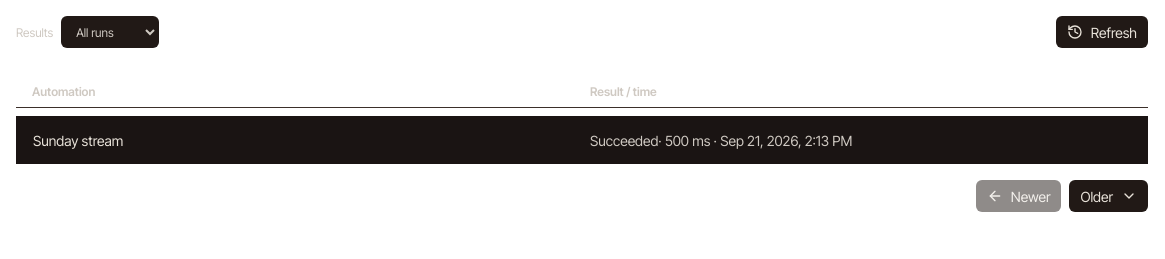
Test case: History view › retains the current page on query failure and provides an explicit refresh
Click the button "Older" at x=1109, y=196, box [1069, 180, 1148, 212]
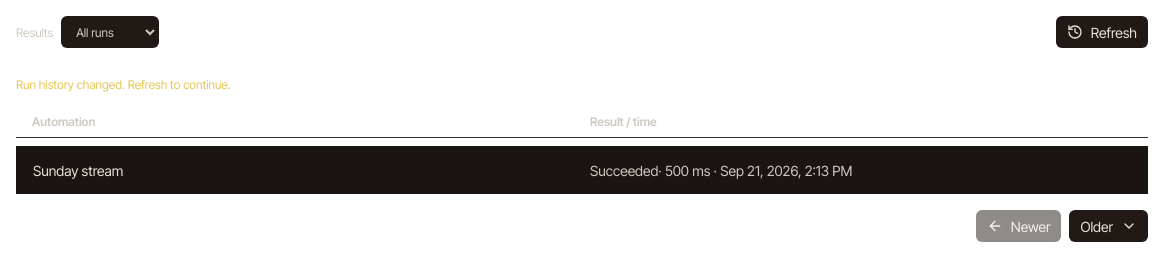
expect the button with aria-label "Inspect Sunday stream run" is shown: met, box [16, 146, 1148, 194]
expect the message shows "Refresh": met, box [16, 77, 231, 92]
Click the button "Refresh" at x=1102, y=32, box [1056, 16, 1148, 48]
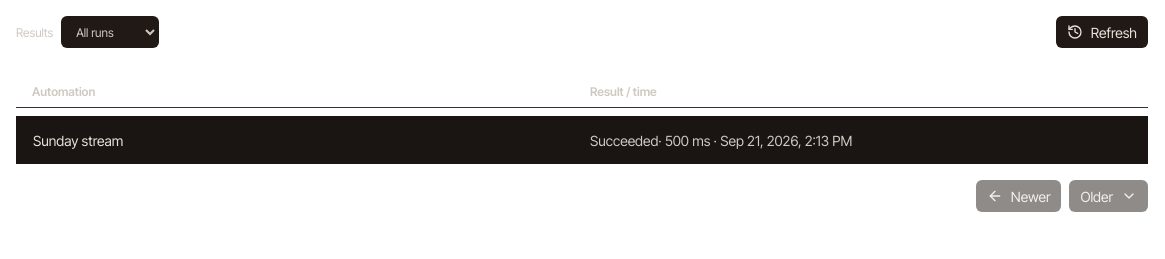
expect the message "Run history changed. Refresh to continue." is gone: met
